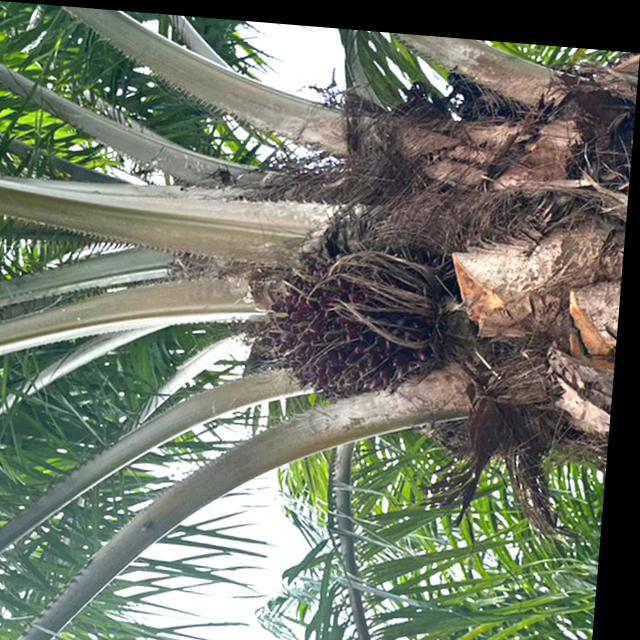ripe: (248, 209, 470, 415)
